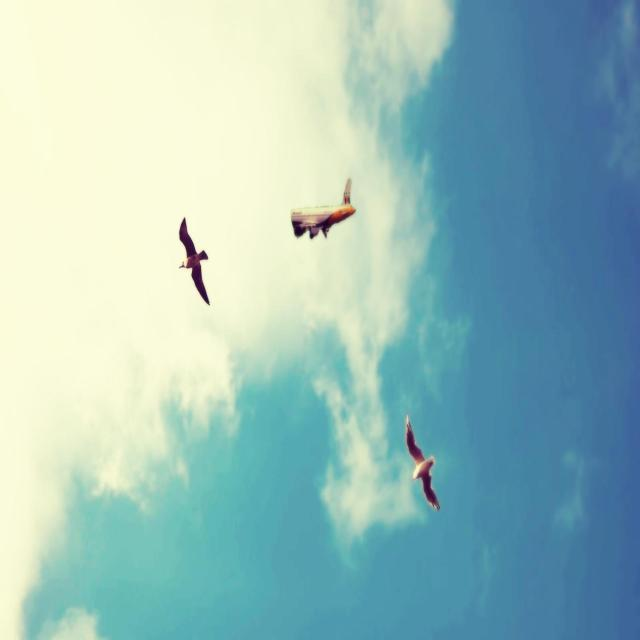airplane: (290, 178, 356, 240)
